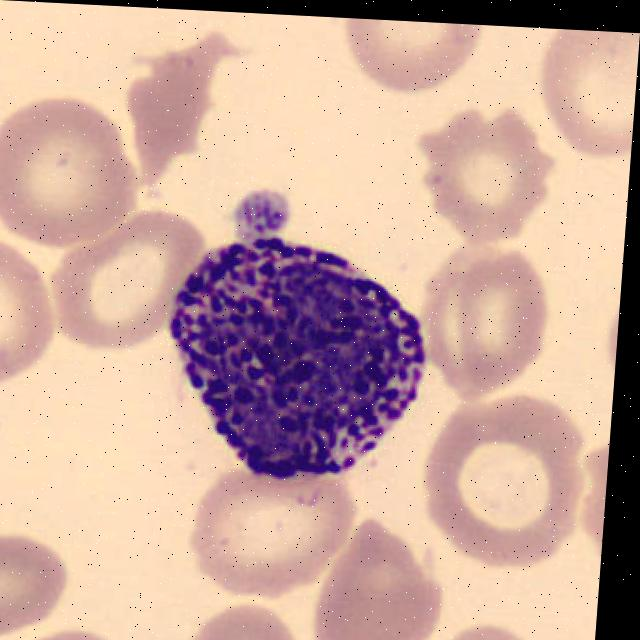basophil: (166, 235, 434, 477)
platelets: (219, 184, 297, 245)
rbc: (421, 381, 591, 574), (168, 455, 367, 602), (0, 91, 166, 256), (400, 102, 562, 248), (46, 204, 202, 353), (410, 239, 546, 387), (305, 512, 452, 640), (522, 28, 640, 167), (333, 18, 491, 98), (0, 515, 81, 637), (0, 240, 65, 389), (166, 581, 317, 640), (575, 429, 611, 551), (429, 611, 551, 640), (28, 603, 119, 640), (604, 306, 620, 366)
